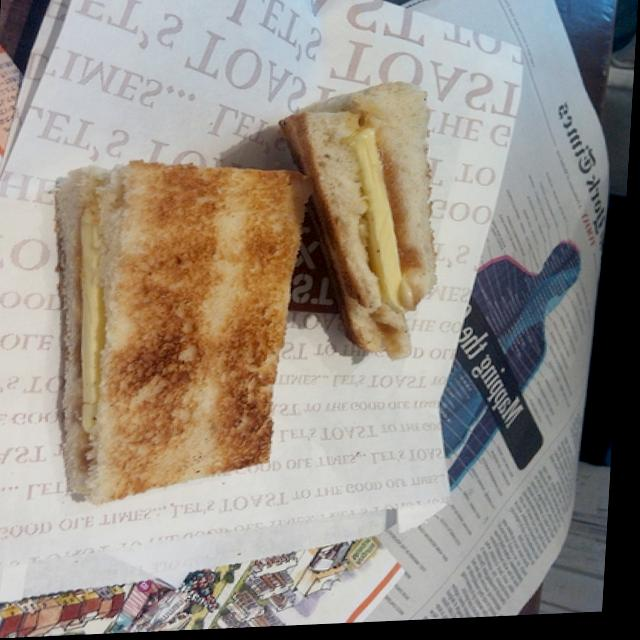面包点心: (17, 59, 491, 531)
